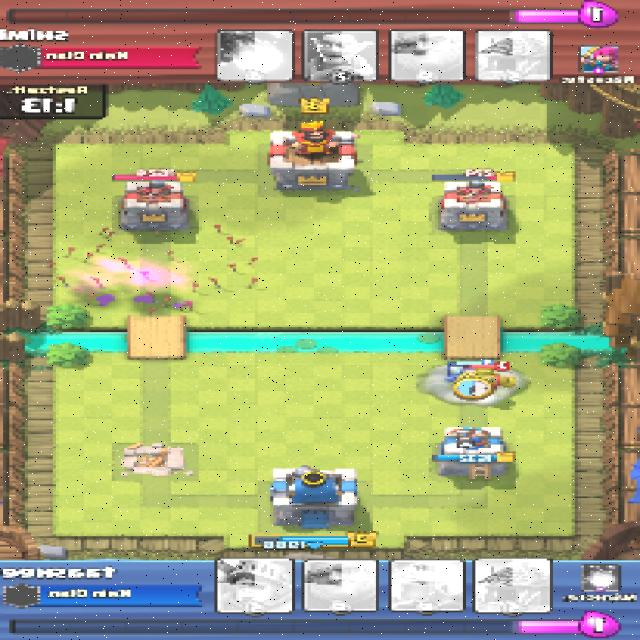Player-Arrow: (56, 220, 257, 306)
Player-GoblinCage: (456, 368, 514, 394)
Player-MiniPEKKA: (443, 364, 498, 380)
